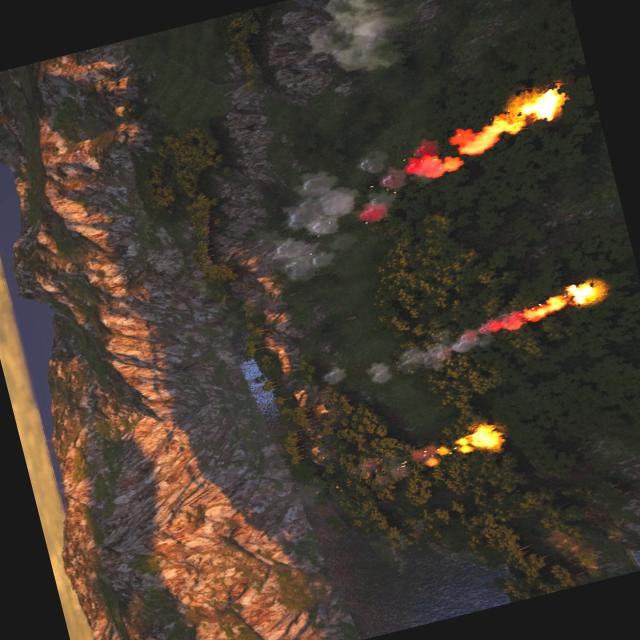fire: (393, 85, 577, 182), (498, 276, 606, 330), (456, 418, 506, 456)
smoke: (248, 102, 540, 284), (290, 433, 464, 508), (355, 308, 518, 384), (291, 0, 419, 88)
